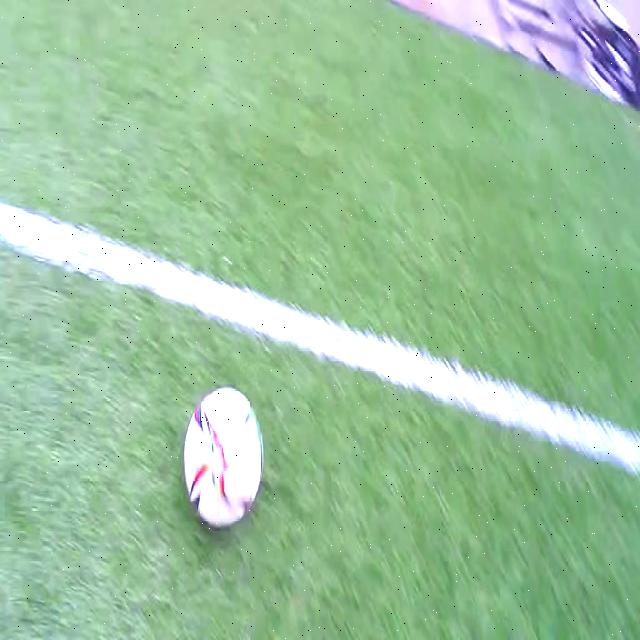ball: (184, 385, 264, 528)
